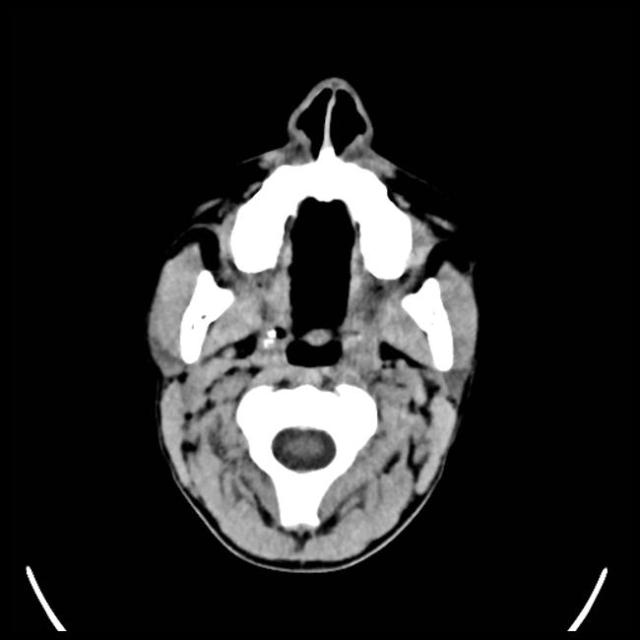lesion: (141, 74, 488, 576)
